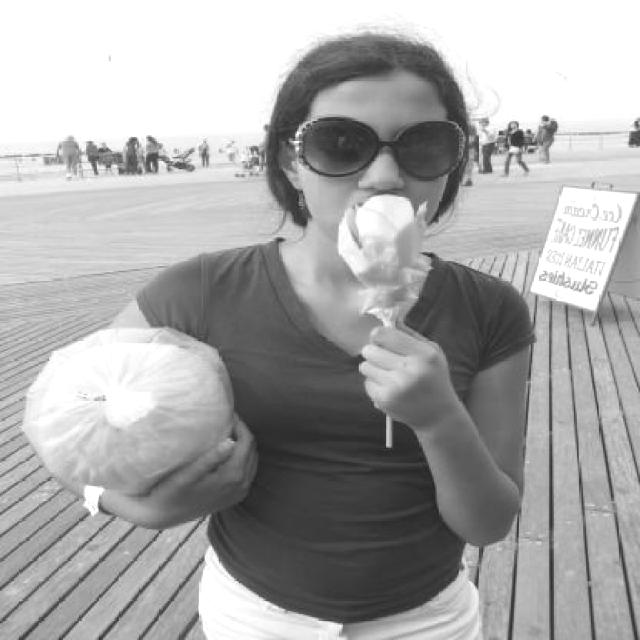glasses: (273, 104, 475, 168)
hand_noglove: (137, 411, 260, 529), (358, 324, 452, 424)
head_nohelmet: (289, 34, 466, 104)
person: (132, 29, 537, 640)
